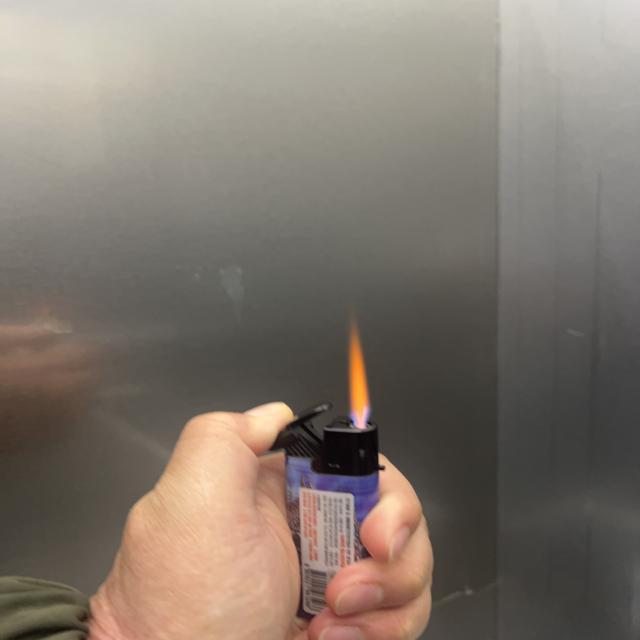fire: (344, 318, 372, 427)
